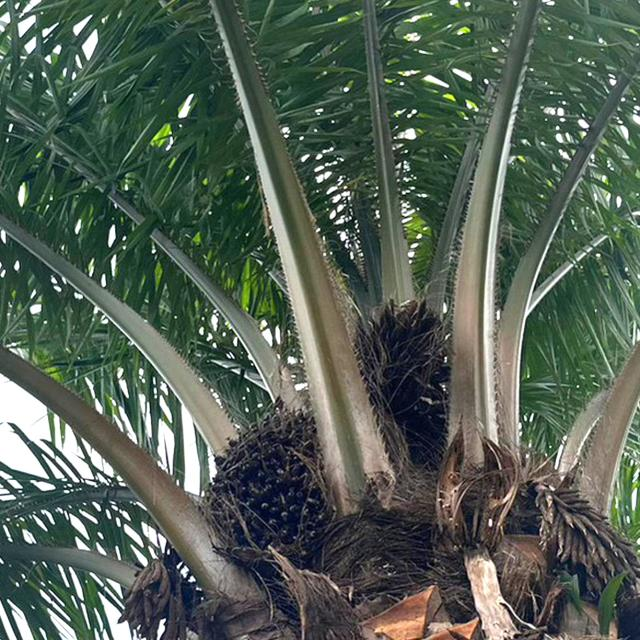almost: (206, 404, 341, 558)
